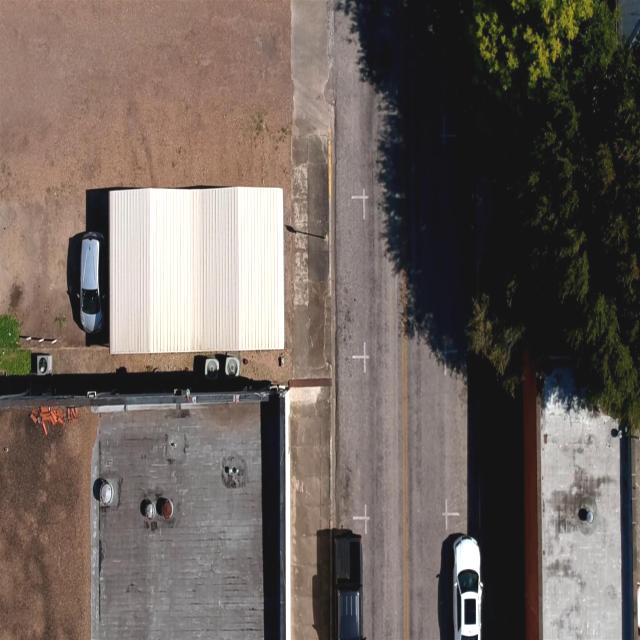Car: (324, 502, 370, 640), (442, 514, 486, 640), (69, 216, 106, 339)
